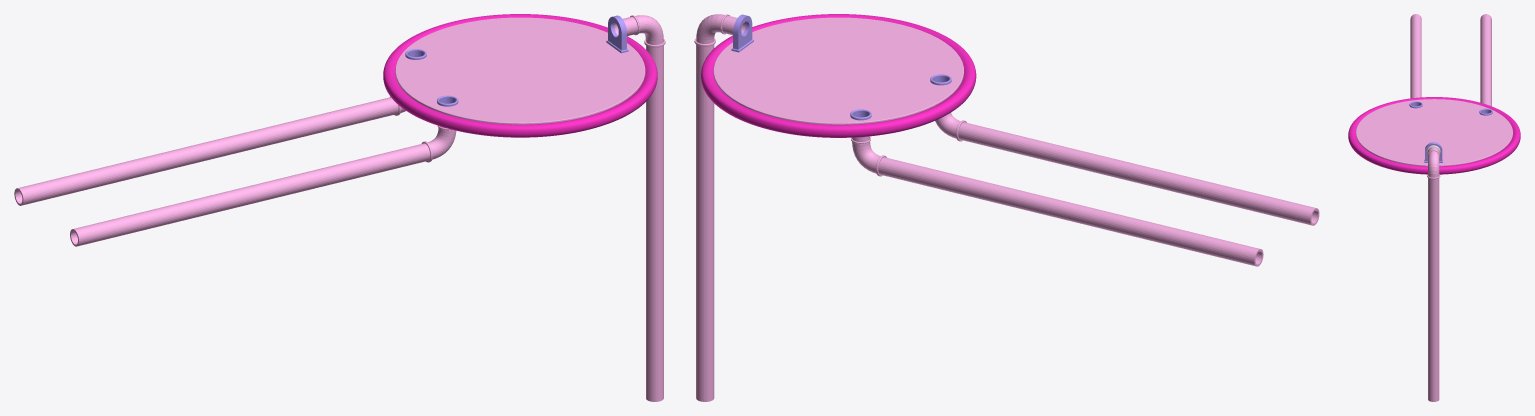
Rendered from platform_a01.glb.
3 renders of one model, left to right at view 1: azimuth 30°, elevation 25°; view 2: azimuth 150°, elevation 25°; view 3: azimuth 270°, elevation 25°, orthographic. The views are drawn at different scales.
Parts seen in each view (by area): view 1: Cylinder.038, Cube.138, Cube.137, Cube.135, Cylinder.039, Cube.084; view 2: Cylinder.038, Cube.137, Cube.138, Cube.135, Cylinder.039, Cube.084; view 3: Cylinder.038, Cube.135, Cylinder.039, Cube.137, Cube.138.
Part boxes in pixels (x1=…): Cylinder.038: x1=395, y1=17, x2=645, y2=124; Cube.138: x1=70, y1=125, x2=456, y2=246; Cube.137: x1=14, y1=96, x2=405, y2=205; Cube.135: x1=614, y1=15, x2=665, y2=401; Cylinder.039: x1=383, y1=14, x2=657, y2=137; Cube.084: x1=606, y1=15, x2=628, y2=53; Cylinder.038: x1=713, y1=17, x2=963, y2=124; Cube.137: x1=851, y1=136, x2=1263, y2=266; Cube.138: x1=935, y1=113, x2=1319, y2=225; Cube.135: x1=694, y1=14, x2=745, y2=401; Cylinder.039: x1=701, y1=14, x2=976, y2=137; Cube.084: x1=731, y1=14, x2=753, y2=52; Cylinder.038: x1=1356, y1=99, x2=1512, y2=166; Cube.135: x1=1427, y1=147, x2=1440, y2=401; Cylinder.039: x1=1348, y1=97, x2=1520, y2=174; Cube.137: x1=1480, y1=14, x2=1491, y2=106; Cube.138: x1=1410, y1=14, x2=1421, y2=98.
Bounding box in the file's own units: 50.41 × 31.14 × 19.86.
